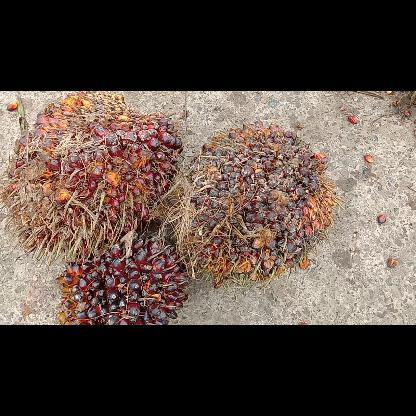Kurang masak: (190, 120, 336, 284), (57, 235, 189, 322)
TBS masak: (0, 91, 182, 255)
